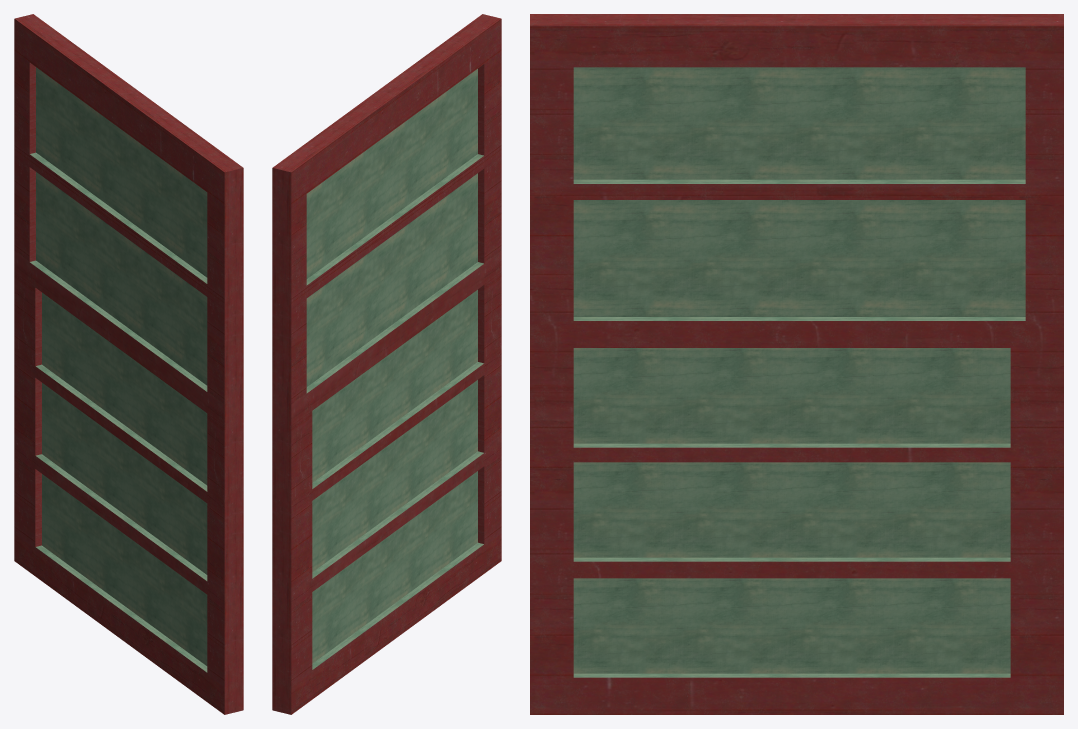
File: SM_W_Wood_1.fbx
The picture shows the model from 3 angles, left to right: view 1: azimuth 30°, elevation 25°; view 2: azimuth 150°, elevation 25°; view 3: azimuth 270°, elevation 25°; orthographic projection. The views are drawn at different scales.
Visible parts, largest first — view 1: SM_W_Wood_1; view 2: SM_W_Wood_1; view 3: SM_W_Wood_1.
Boxes of the visible parts, box(x1,y1,x2,y2) form: SM_W_Wood_1: box(14, 14, 243, 714); SM_W_Wood_1: box(272, 14, 501, 714); SM_W_Wood_1: box(530, 14, 1063, 714).
Size of the model in its own units: 17.16 by 329 by 469.
2 materials, 2 textured.
